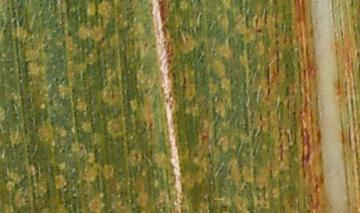tarspot: (263, 63, 271, 86), (278, 141, 285, 161), (201, 133, 209, 142), (284, 85, 290, 96), (266, 87, 272, 97), (81, 172, 88, 180), (354, 50, 360, 59), (47, 3, 53, 12), (254, 16, 259, 26), (254, 28, 262, 34), (349, 1, 355, 9), (287, 161, 293, 169), (150, 42, 156, 49), (143, 41, 149, 48), (193, 152, 199, 159), (274, 39, 280, 46), (265, 147, 271, 154), (279, 169, 285, 176), (60, 149, 66, 155), (59, 77, 65, 83), (283, 62, 288, 69), (284, 73, 290, 78), (75, 128, 81, 133), (271, 1, 278, 5), (54, 77, 59, 82)
